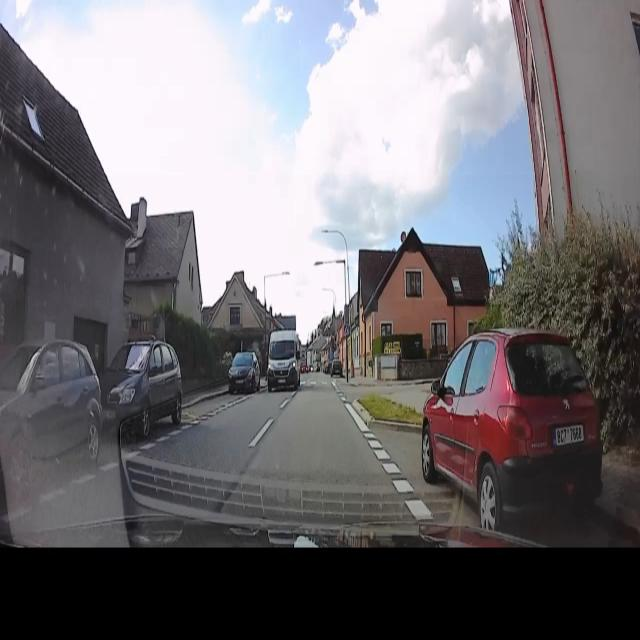Pedestrian crosswalk: (300, 376, 340, 388), (343, 322, 351, 338)
